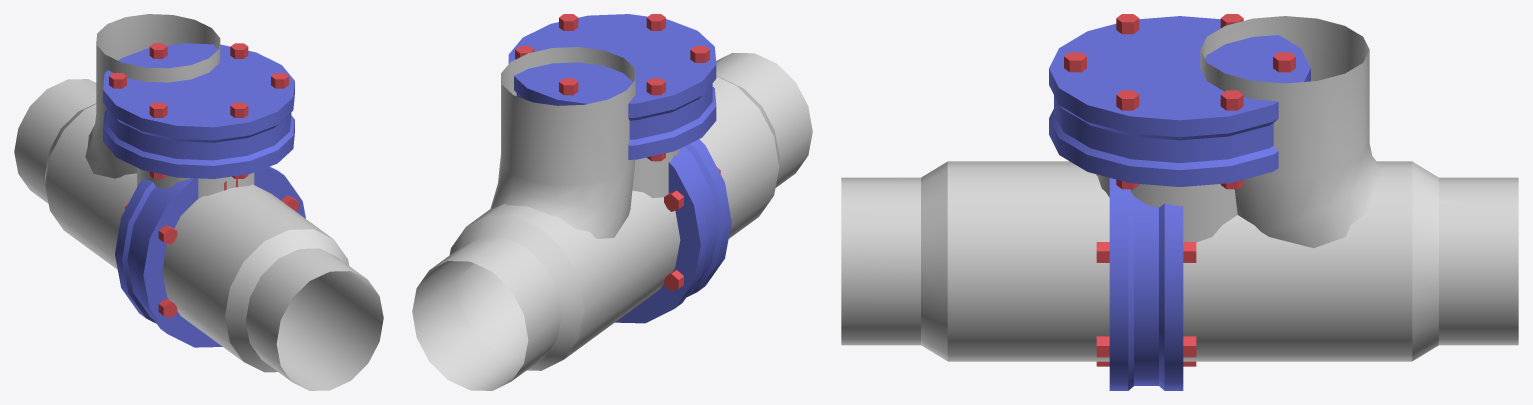
The model's file is M_Pipes.fbx.
3 renders of one model, left to right at view 1: azimuth 30°, elevation 25°; view 2: azimuth 150°, elevation 25°; view 3: azimuth 270°, elevation 25°, orthographic. The views are drawn at different scales.
Parts seen in each view (by area): view 1: Cylinder.005, Cylinder.004, Cylinder.001, Cylinder.006; view 2: Cylinder.004, Cylinder.006, Cylinder.005, Cylinder.001; view 3: Cylinder.004, Cylinder.005, Cylinder.001, Cylinder.006.
Boxes of the visible parts, left/top/right/bottom form: Cylinder.005: left=14, top=43, right=383, bottom=390; Cylinder.004: left=14, top=103, right=383, bottom=390; Cylinder.001: left=14, top=79, right=305, bottom=347; Cylinder.006: left=15, top=14, right=220, bottom=178; Cylinder.004: left=413, top=53, right=812, bottom=381; Cylinder.006: left=414, top=47, right=635, bottom=389; Cylinder.005: left=446, top=14, right=812, bottom=389; Cylinder.001: left=412, top=139, right=731, bottom=390; Cylinder.004: left=841, top=161, right=1518, bottom=361; Cylinder.005: left=841, top=14, right=1518, bottom=345; Cylinder.001: left=1096, top=174, right=1518, bottom=390; Cylinder.006: left=1200, top=16, right=1518, bottom=345.
Size of the model in its own units: 72.87 by 108 by 200.
